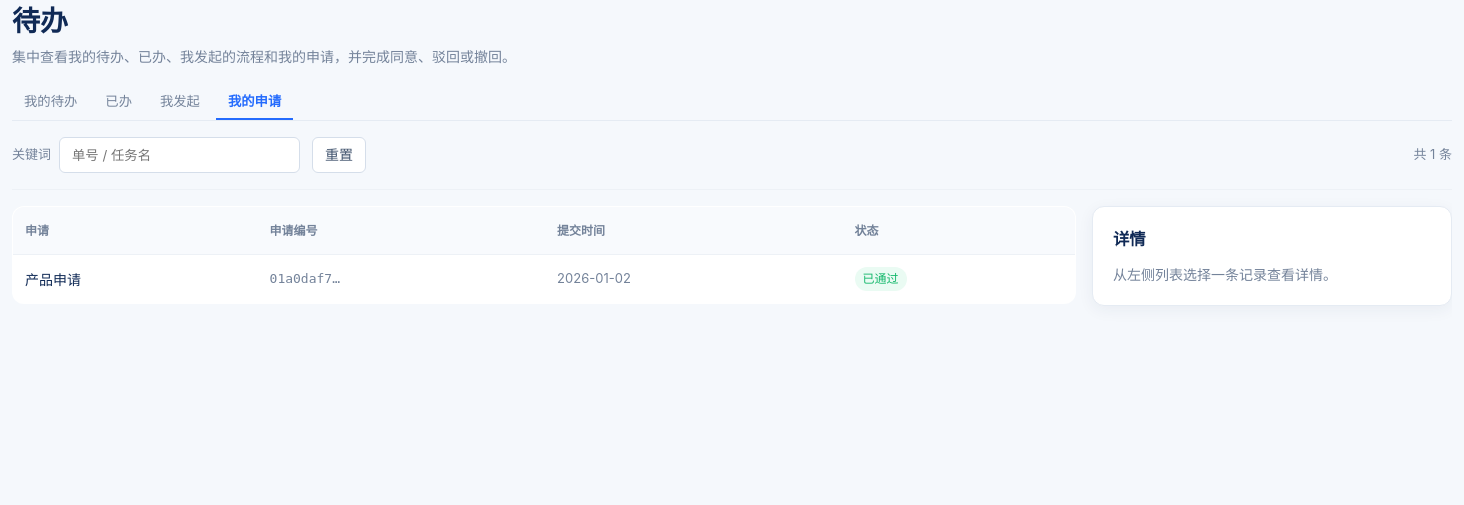
Scenario: todo inbox visual standard (Q10) › shows 我的申请 with application headers and an application-shaped detail (Q11)
The width and height of the screenshot is (1464, 505).
Expected: the cell with test id "todo-row-no" reads "01a0daf7…", x1=270 y1=271 x2=340 y2=286
Step 1. Click the row with test id "todo-row" → click(544, 279), box x1=12 y1=254 x2=1076 y2=304
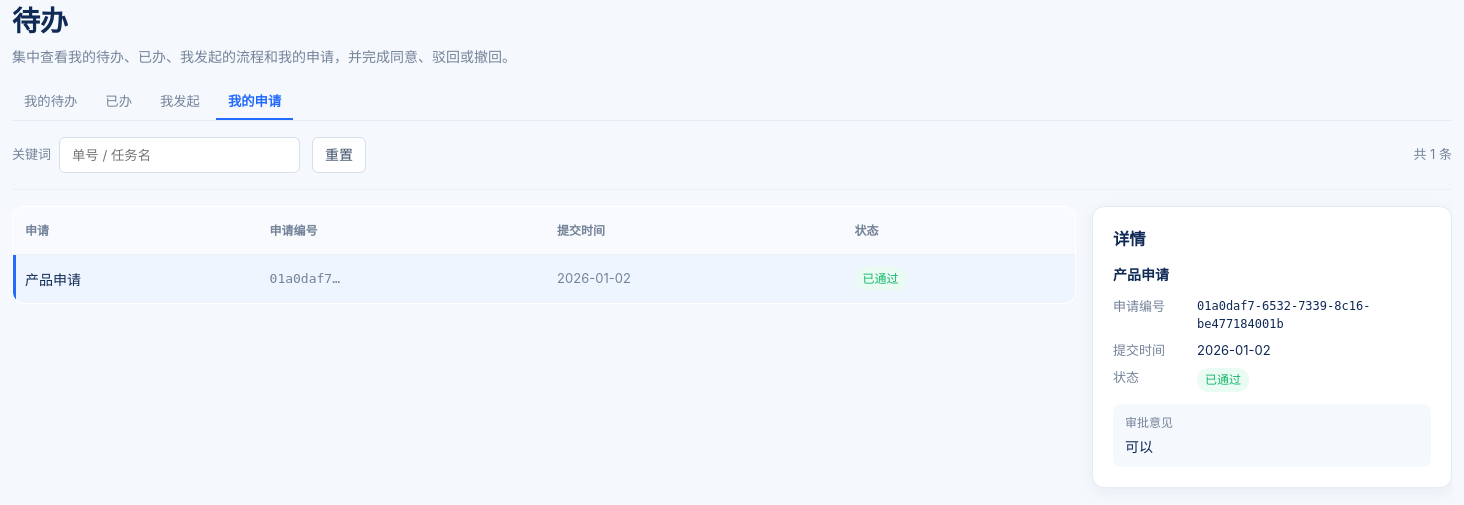
Expected: the element with test id "request-detail-meta" shows "申请编号", x1=1113 y1=298 x2=1165 y2=314
Expected: the element with test id "request-detail-meta" shows "已通过", x1=1205 y1=372 x2=1241 y2=387
Expected: the element with test id "application-comment" shows "可以", x1=1125 y1=438 x2=1153 y2=455
